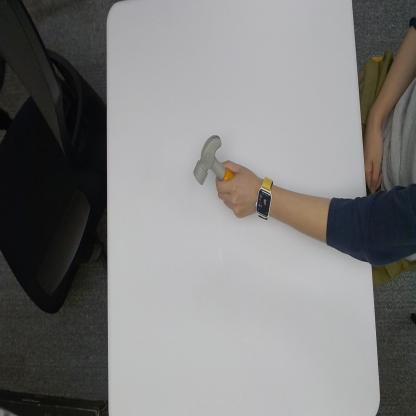Arm: (275, 184, 366, 264)
Hammer: (193, 132, 236, 184)
Hand: (216, 159, 257, 220)
